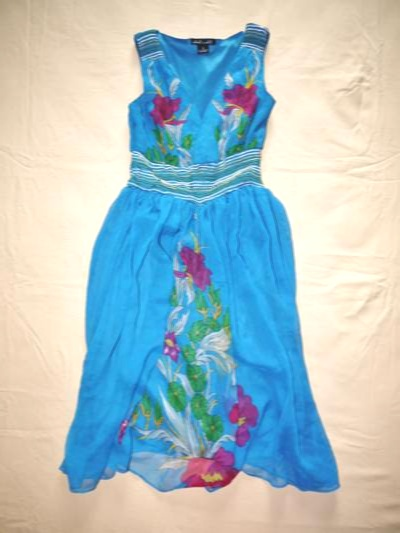Dress: (56, 11, 353, 506)
